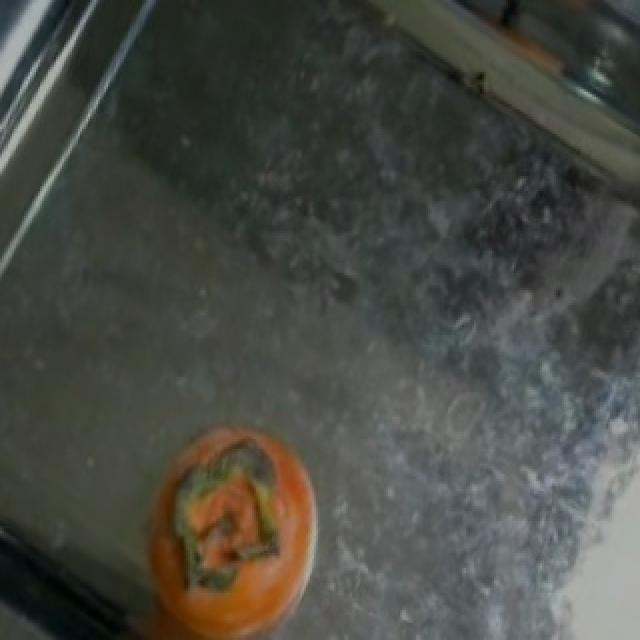Fruit: (118, 402, 346, 632)
